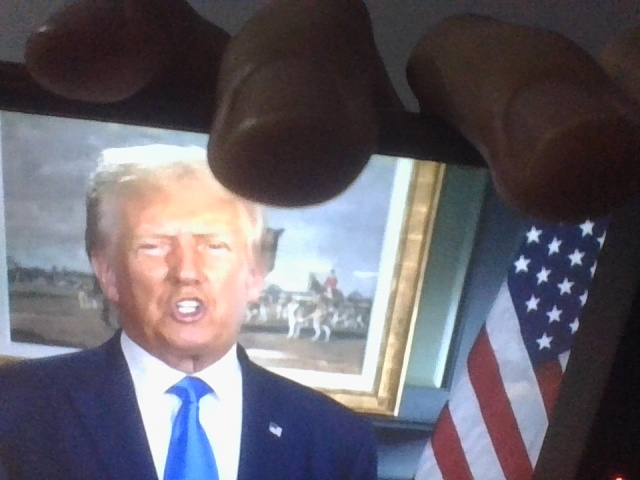fake: (106, 141, 262, 362)
